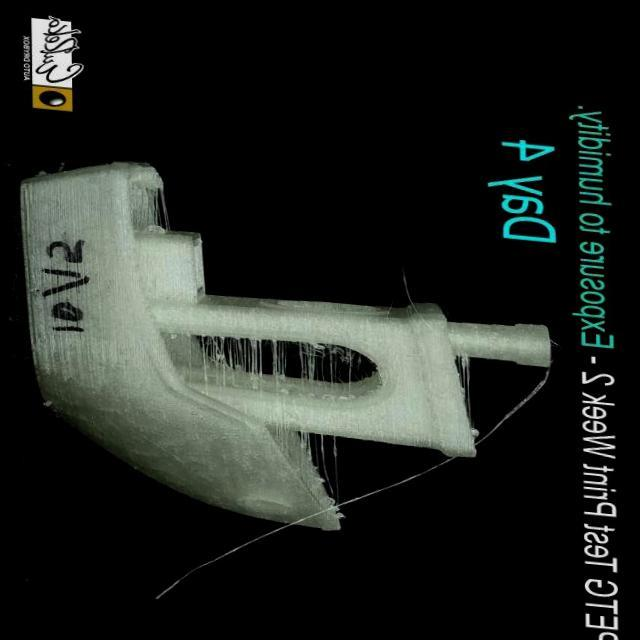stringing: (183, 321, 352, 392), (299, 426, 342, 451), (458, 347, 472, 398)
